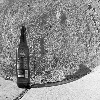beer: (15, 25, 33, 88)
